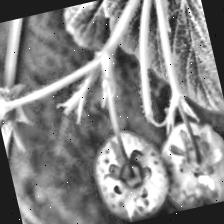Gray Mold: (0, 77, 24, 134)
